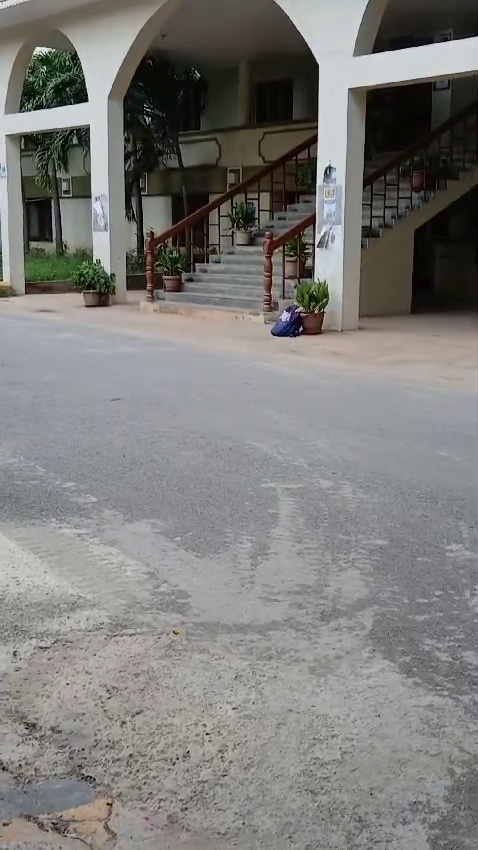bag: (269, 295, 296, 345)
